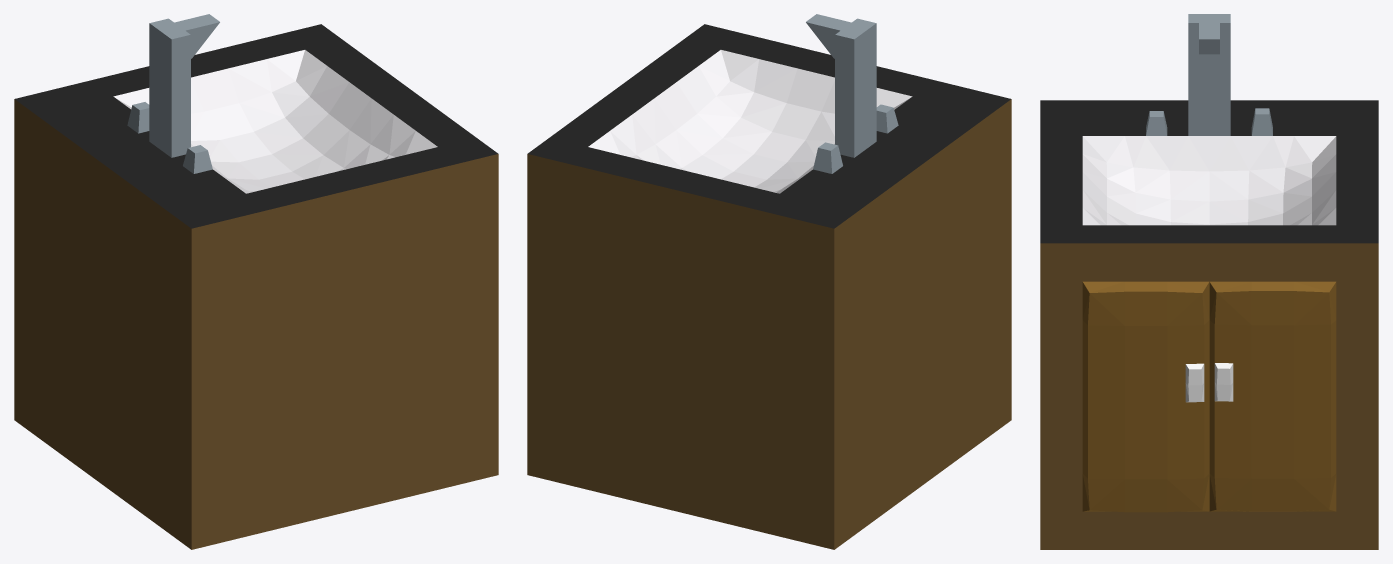
Rendered from sink.dae.
The picture shows the model from 3 angles, left to right: view 1: azimuth 30°, elevation 25°; view 2: azimuth 150°, elevation 25°; view 3: azimuth 270°, elevation 25°; orthographic projection. The views are drawn at different scales.
Visible parts, largest first — view 1: Cube; view 2: Cube; view 3: Cube.
Part boxes in pixels (x1,y1,x2,y2): Cube: (14, 14, 498, 549); Cube: (527, 14, 1011, 549); Cube: (1040, 14, 1378, 549).
Size of the model in its own units: 2.11 by 2 by 2.74.
